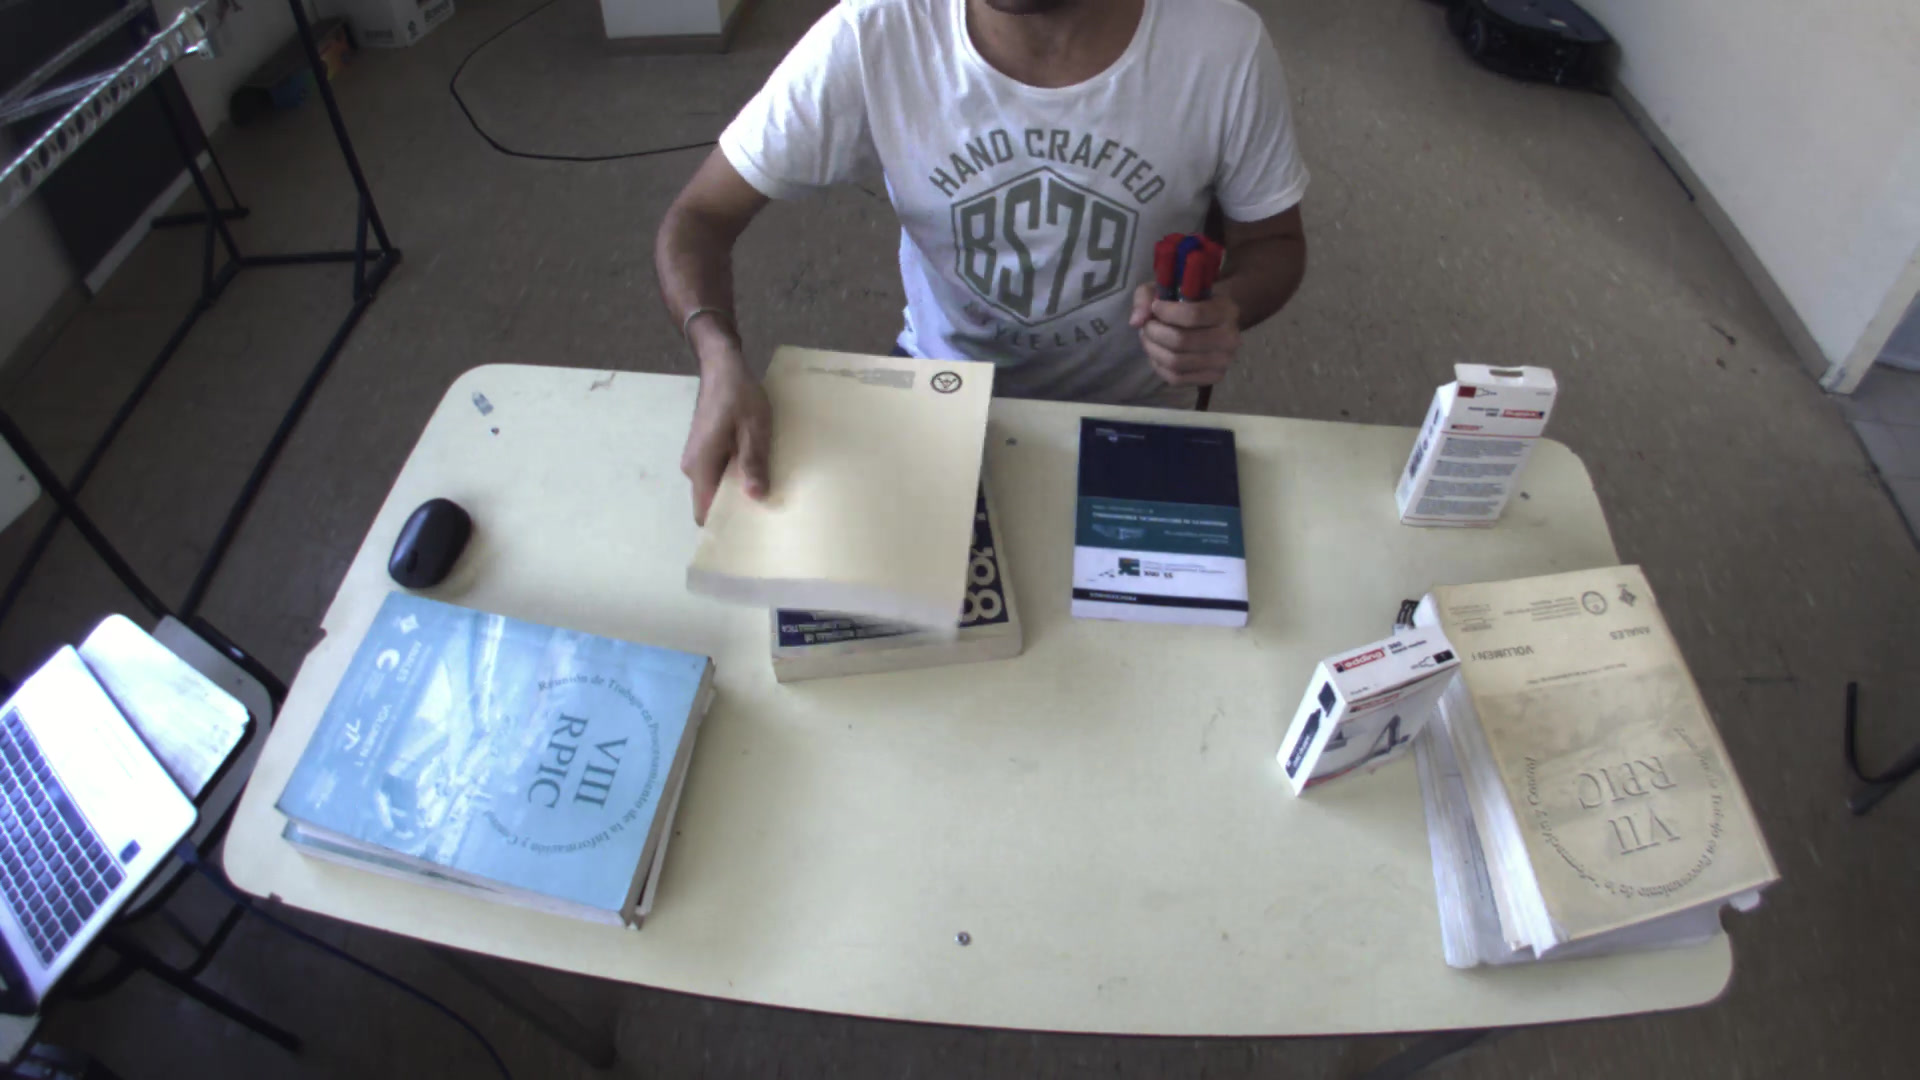hand: (1122, 224, 1255, 397), (666, 349, 785, 510)
